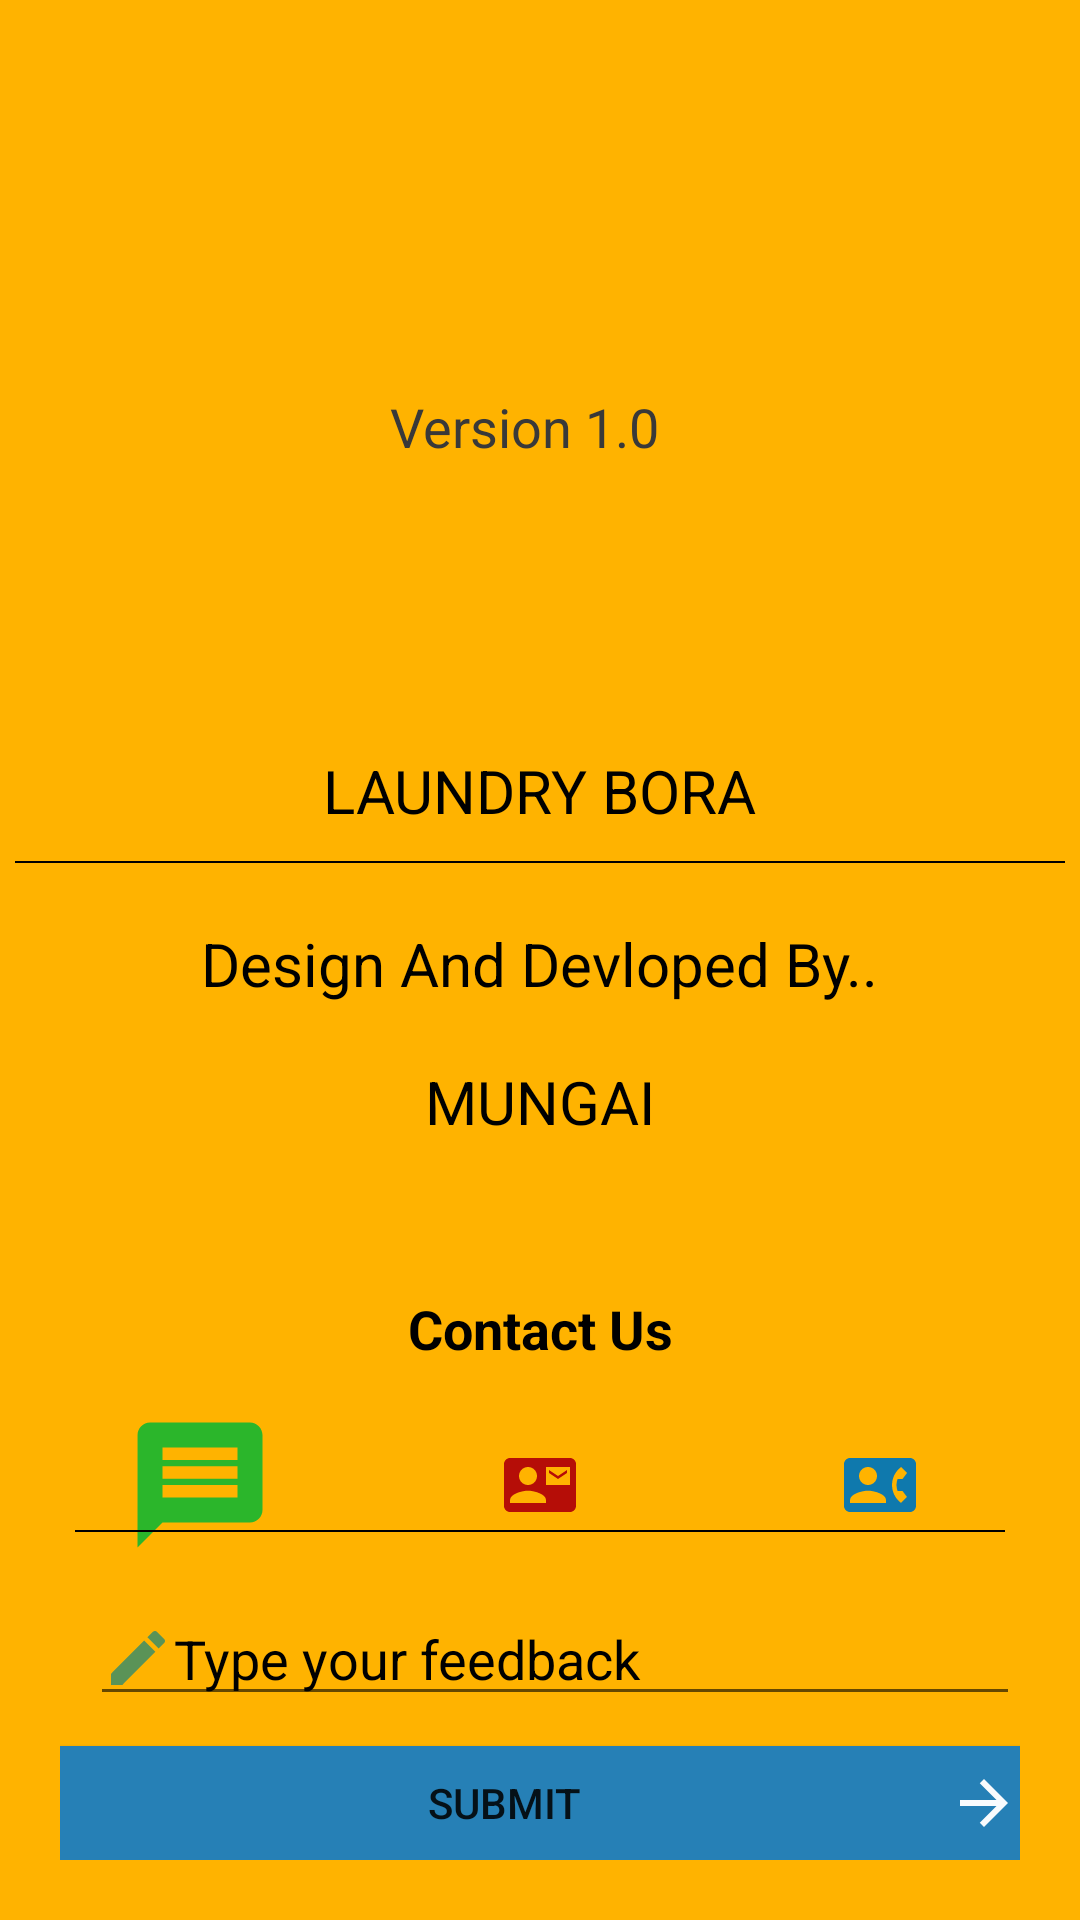

Where icons sit on this 1080*1920 app screen, as (x1, y1, x2, y2):
contact mail: (504, 1458, 576, 1512)
contact phone: (844, 1458, 916, 1512)
